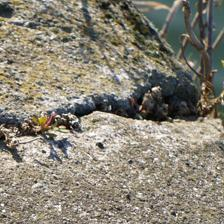Crack: (7, 72, 199, 145)
